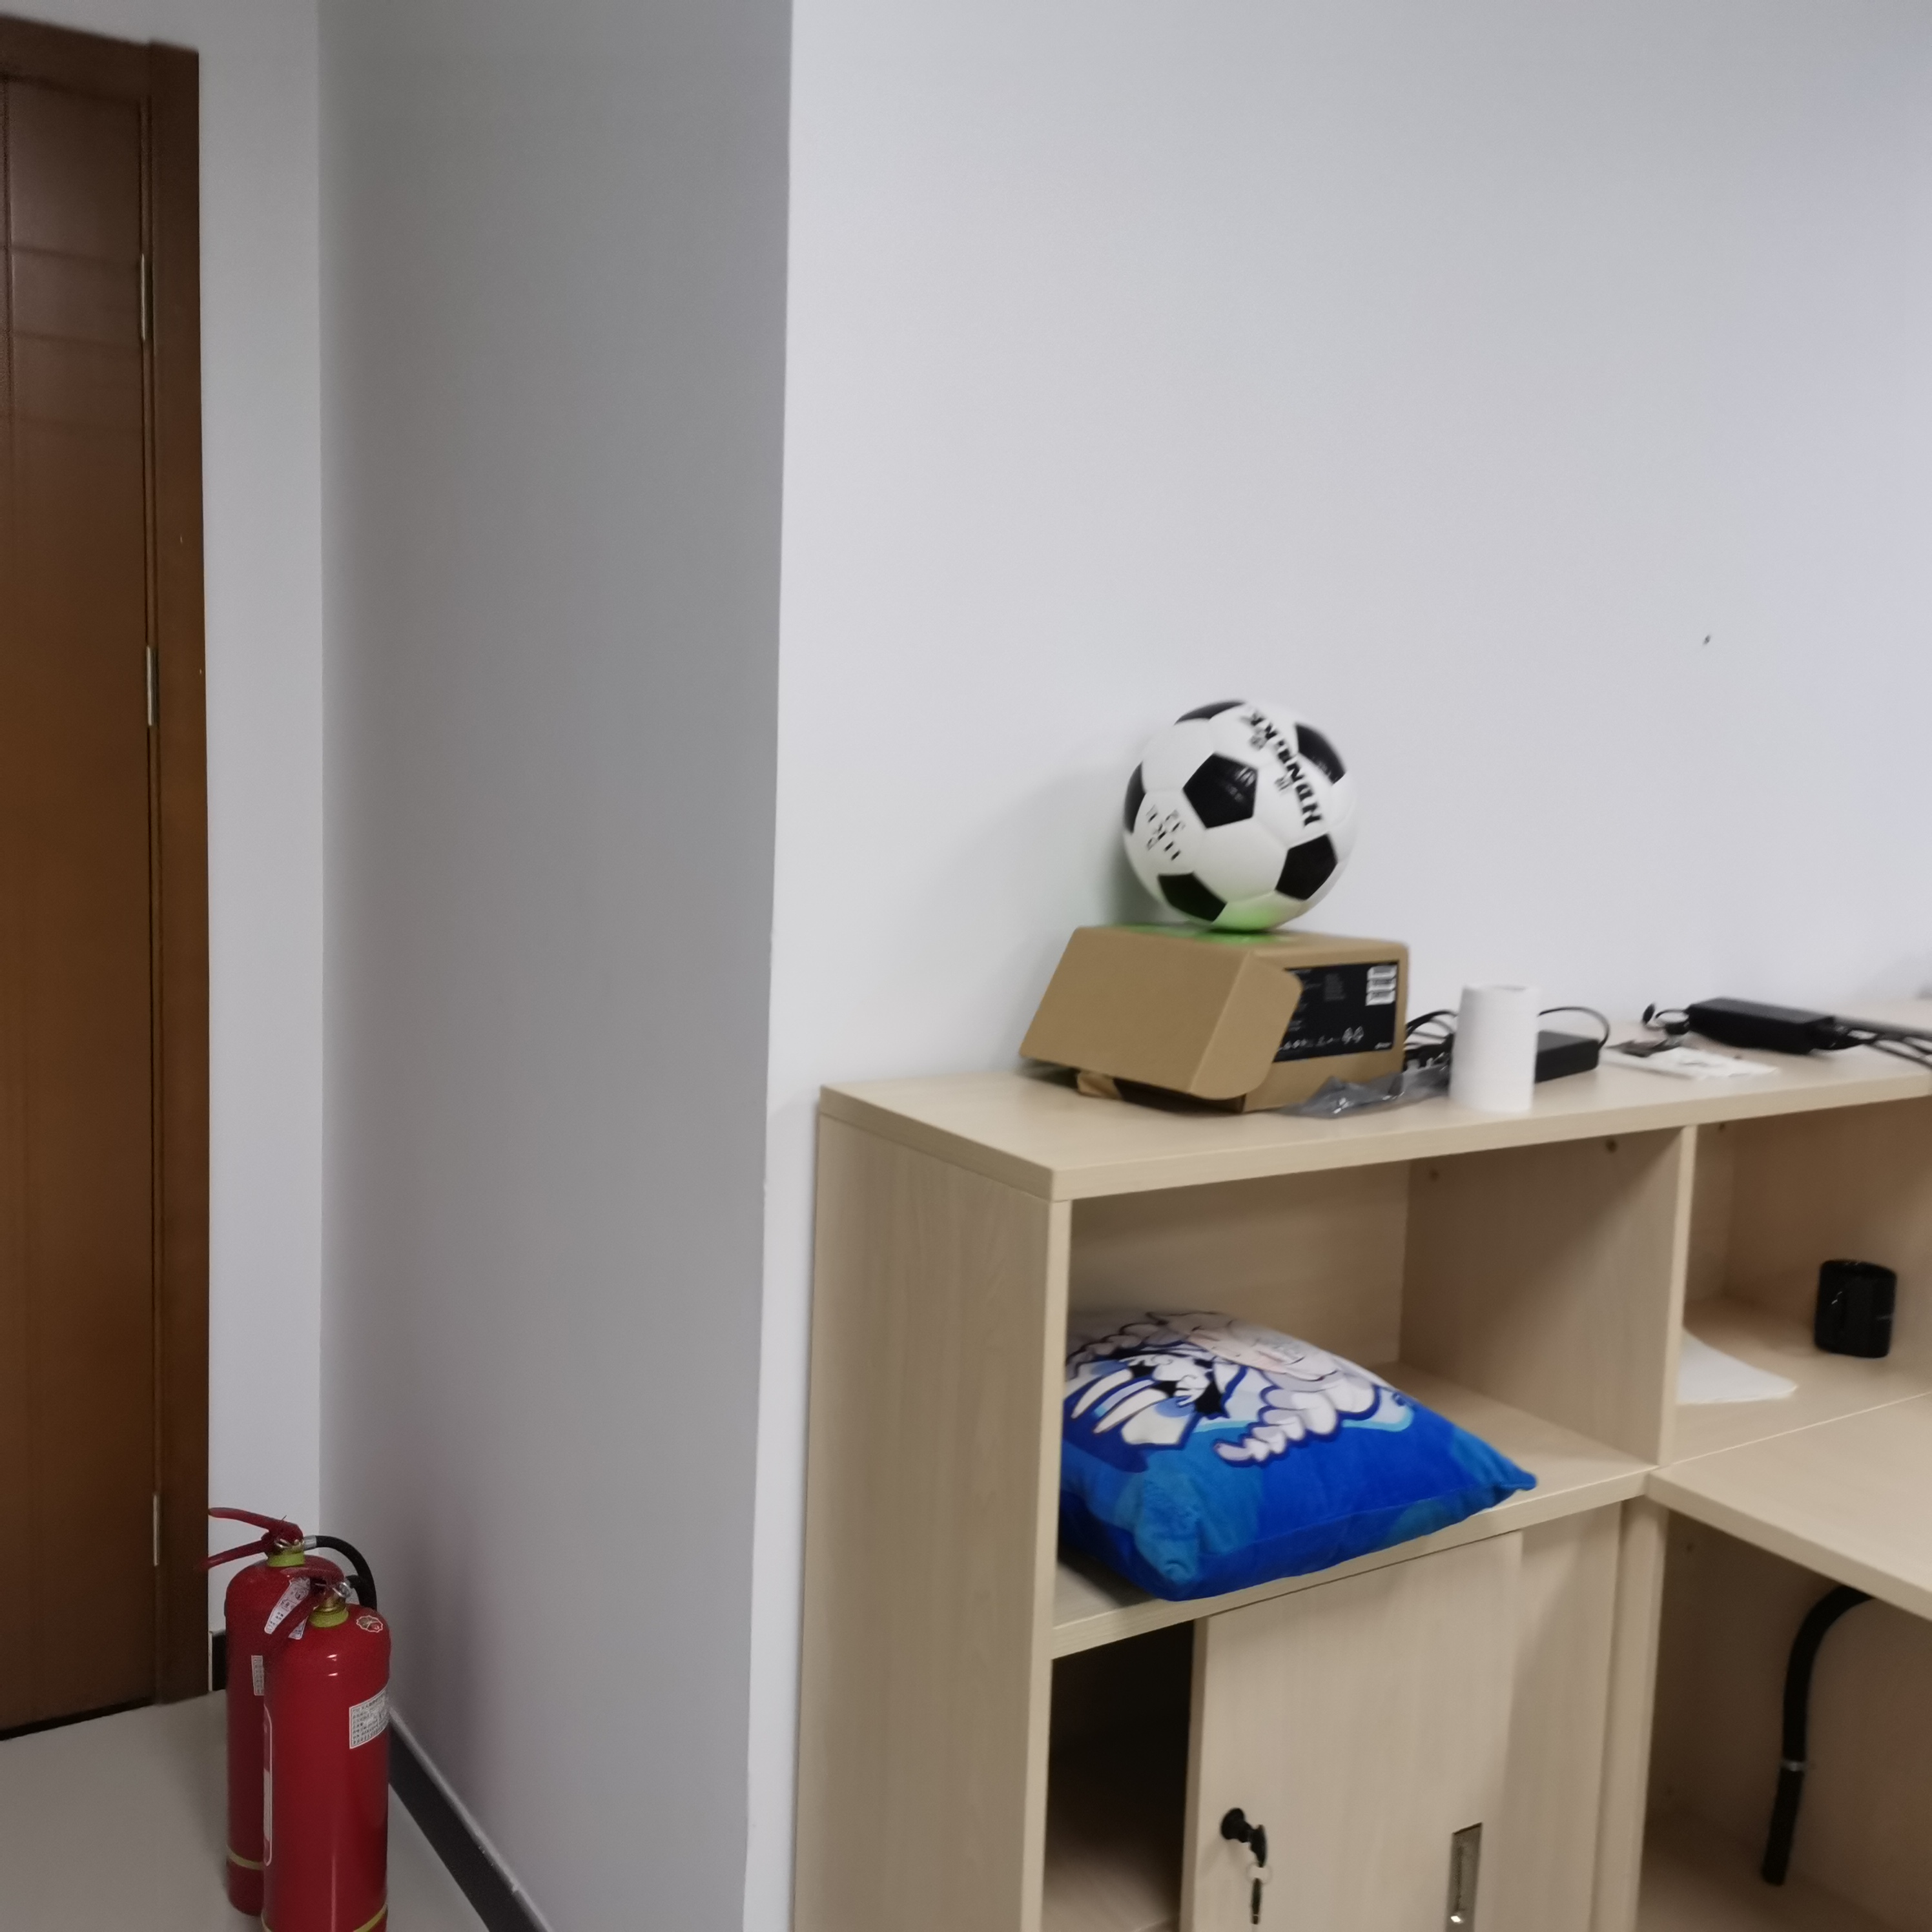football: (1122, 701, 1355, 931)
